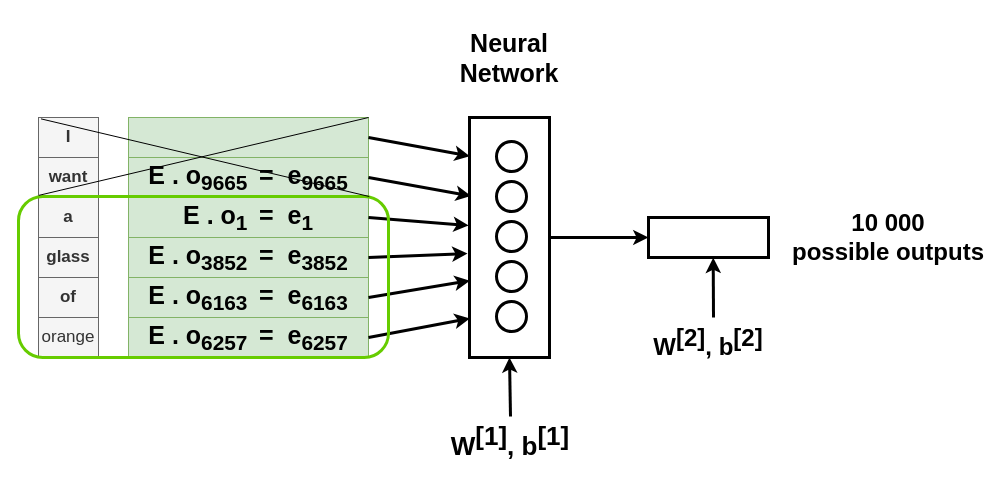
Image size: 1006x483. Some labels were removed from this diagram. Here are the shapes that lost their labels. From the top down, the centre of each, then its label:
point 248,137: E . o 4343 = e 6257
point 708,237: Softmax
